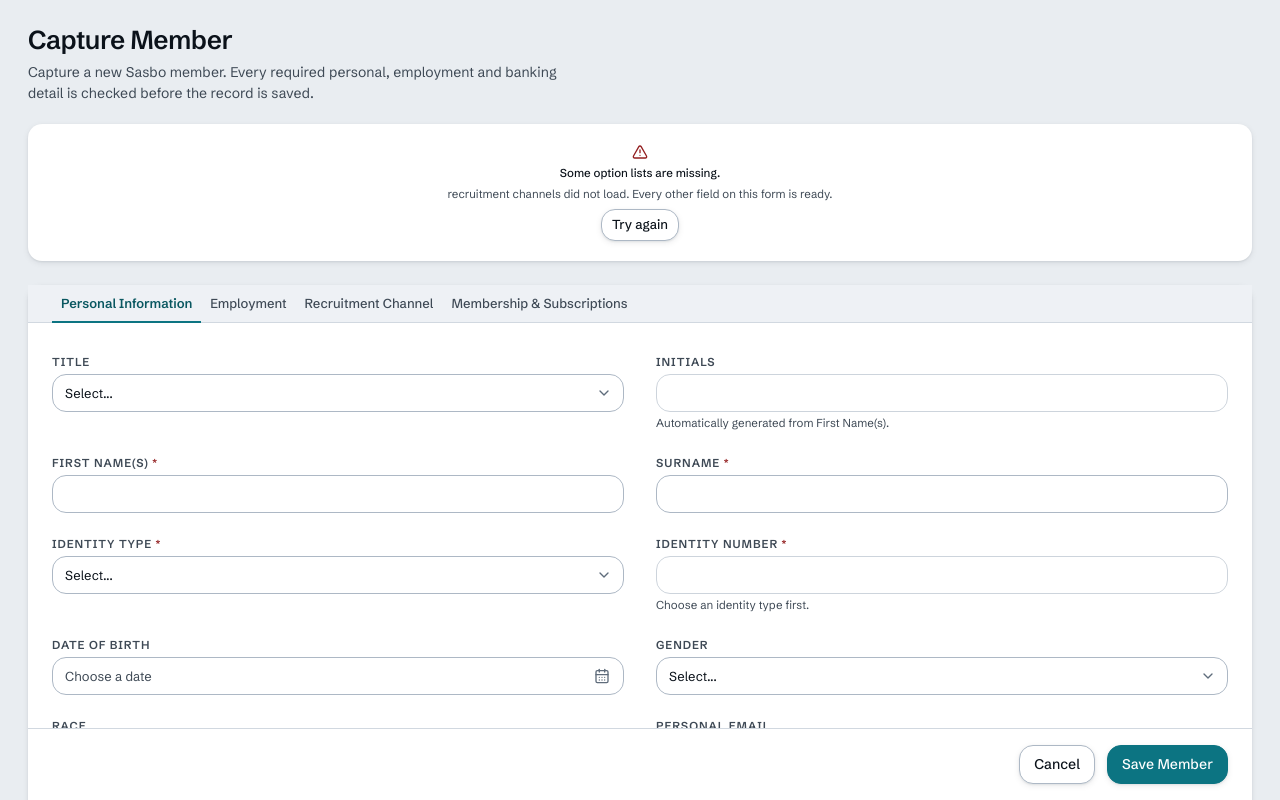
Test: Capture Member, when a list it offers failed › says so at Recruiter Type, and only there
The width and height of the screenshot is (1280, 800).
Click the button "Recruitment Channel".
click(369, 304)  # box [296,284,442,323]
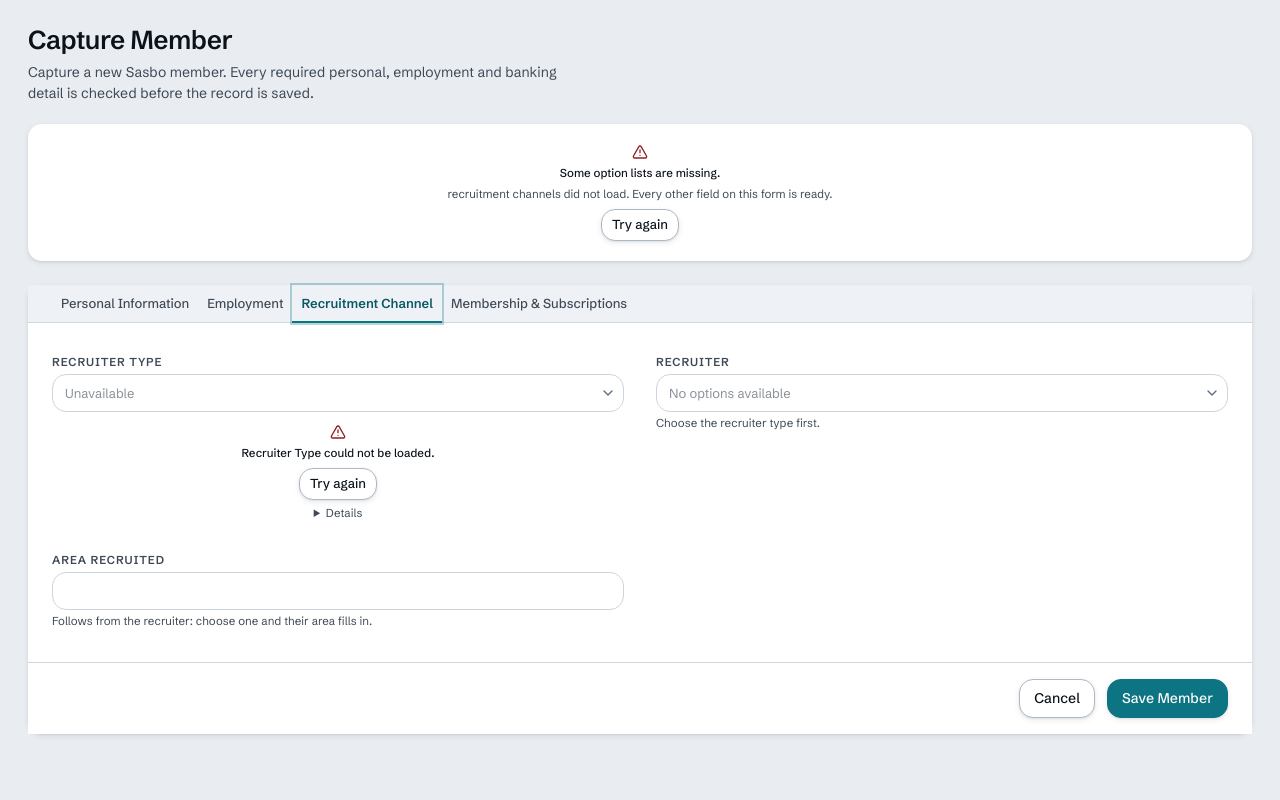
Check: the text "Recruiter Type could not be loaded." is shown once, box [242,446,434,462]
